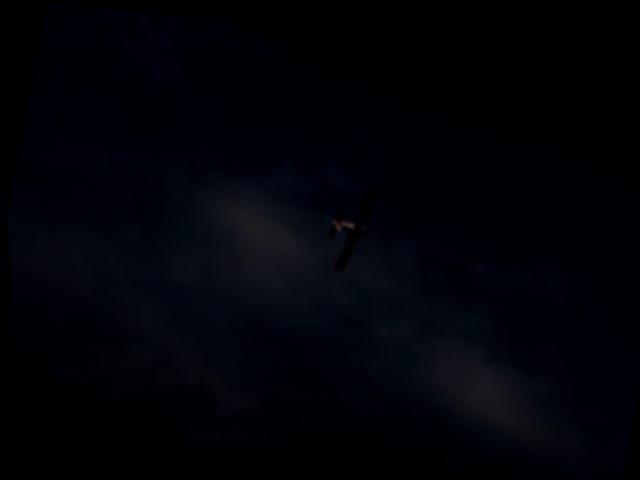uav: (313, 167, 386, 281)
